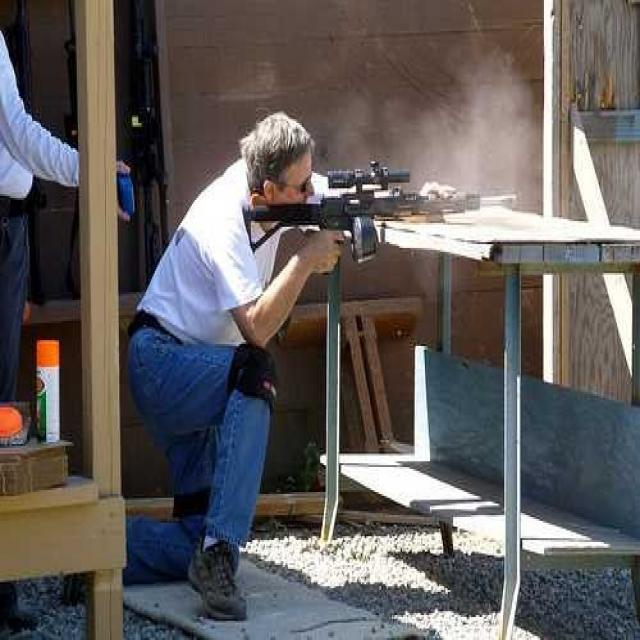weapon: (229, 148, 538, 279)
